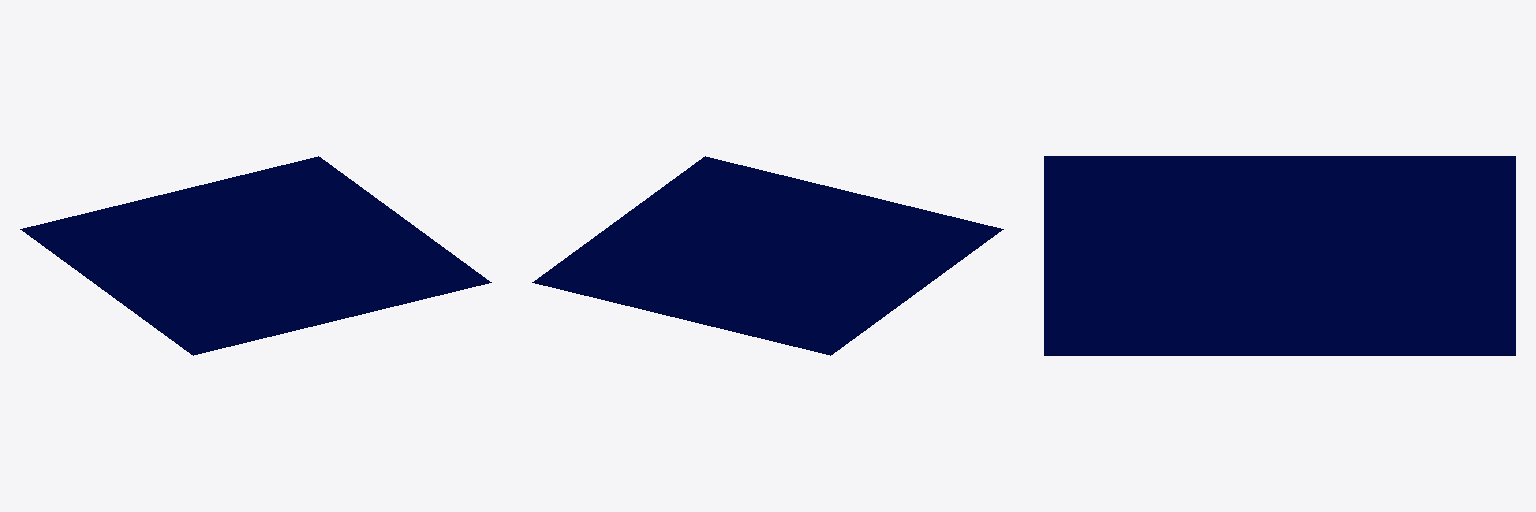
robot.urdf — robot:
<?xml version='1.0'?>
<robot>
  <link name="base_link">
    <visual>
      <geometry>
       <mesh filename="package://ros_ship_description/world/others/mesh/WATER_SURFACE.dae"/>
      </geometry>
    </visual>
    <inertial>
      <mass value="1"/>
      <inertia ixx="0.0" ixy="0.0" ixz="0.0" iyy="0.0" iyz="0.0" izz="0.0"/>
    </inertial>
  </link>

  <link name="top_link">
    <inertial>
      <mass value="1"/>
      <inertia ixx="0.0" ixy="0.0" ixz="0.0" iyy="0.0" iyz="0.0" izz="0.0"/>
    </inertial>
  </link>

  <joint name="base_link_joint" type="fixed">
    <origin xyz="0 0 0.1"/>
    <parent link="top_link"/>
    <child link="base_link"/>
  </joint>

  <gazebo>
    <static>true</static>
  </gazebo>
</robot>

--- What the picture shows (computed from the rendered views, not written in the file) ---
The picture shows the robot from 3 angles, left to right: view 1: azimuth 30°, elevation 25°; view 2: azimuth 150°, elevation 25°; view 3: azimuth 270°, elevation 25°; orthographic projection.
Robot: robot — 2 links, 1 joints (1 fixed); root link top_link; default pose: every joint at zero.
Links seen in each view (by area): view 1: base_link; view 2: base_link; view 3: base_link.
Boxes of the visible links, <box> form: base_link: <box>20,156,491,355</box>; base_link: <box>532,156,1003,355</box>; base_link: <box>1044,156,1515,355</box>.
Bounding box of the posed robot: 200 × 200 × 0.2 m (x, y, z).
Meshes: 1 distinct files referenced, 1 mesh visuals loaded (1 Collada DAE).
